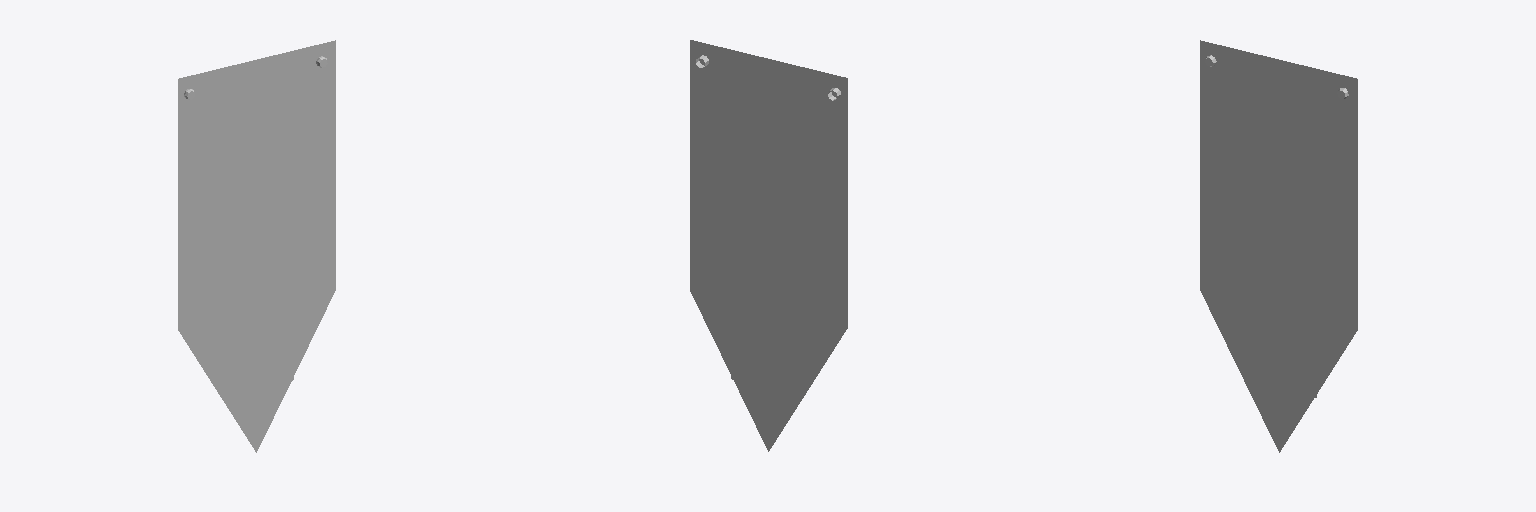
The model's file is Banner_2_Cloth.obj.
3 renders of one model, left to right at view 1: azimuth 30°, elevation 25°; view 2: azimuth 150°, elevation 25°; view 3: azimuth 330°, elevation 25°, orthographic.
Visible parts, largest first — view 1: Banner_2_Cloth_Cube.225; view 2: Banner_2_Cloth_Cube.225; view 3: Banner_2_Cloth_Cube.225.
Boxes of the visible parts, x1=… form: Banner_2_Cloth_Cube.225: x1=178, y1=40, x2=335, y2=452; Banner_2_Cloth_Cube.225: x1=690, y1=40, x2=847, y2=451; Banner_2_Cloth_Cube.225: x1=1200, y1=40, x2=1357, y2=452.
Size of the model in its own units: 0.8102 by 1.93 by 0.0568.